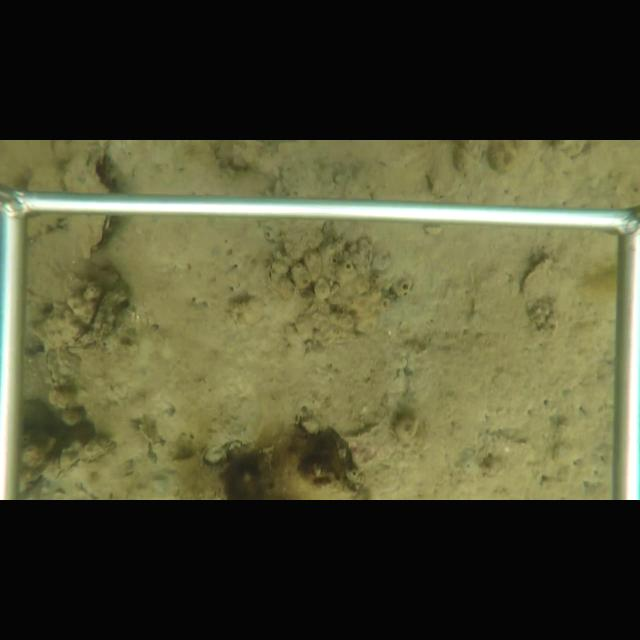Oyster-Closed: (30, 254, 128, 348), (522, 256, 556, 299)
